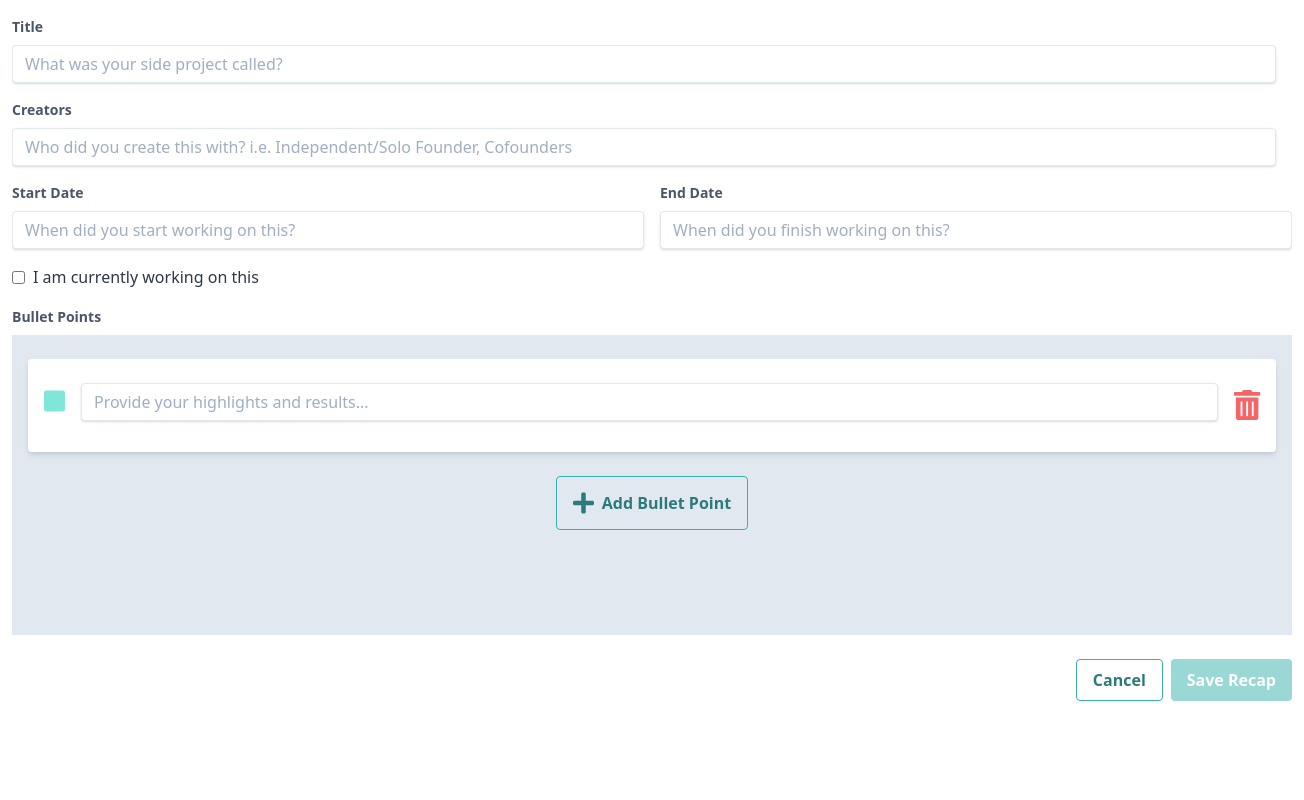
Test: <SideProjectsForm /> › should hide end date if current work is checked
Click the checkbox labelled "I am currently working on this". click: (18, 277)
box: left=12, top=270, right=25, bottom=284
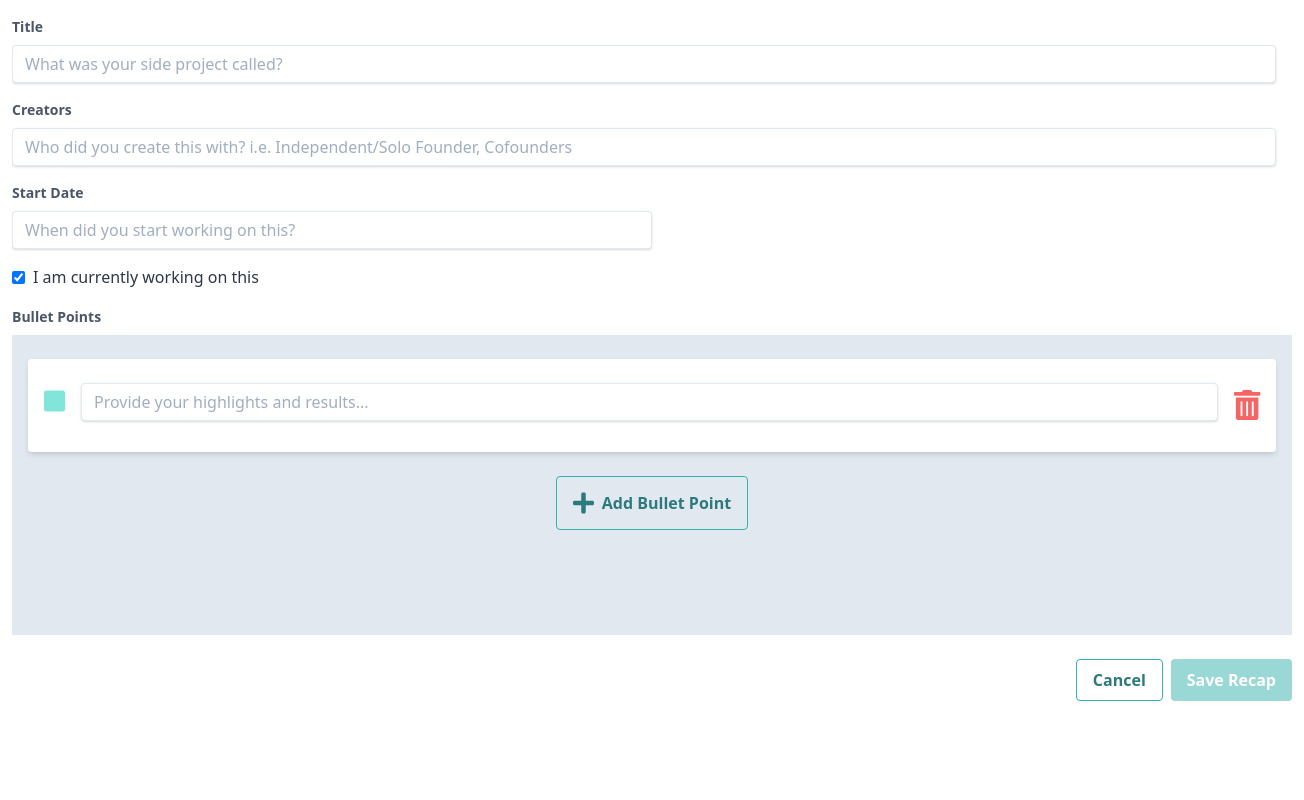
expect the field labelled "Start Date" is shown: met, box left=12, top=211, right=652, bottom=249
expect the checkbox labelled "I am currently working on this" is checked: met, box left=12, top=270, right=25, bottom=284
expect the label labelled "End Date" is gone: met
